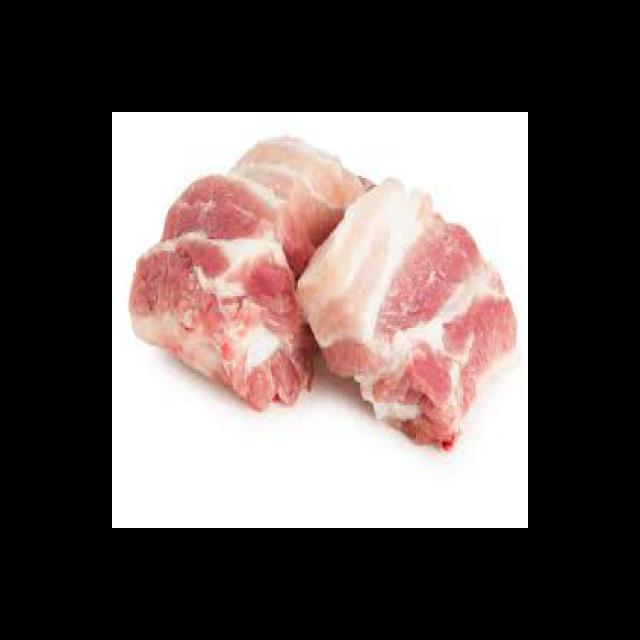pork: (314, 217, 508, 426), (148, 242, 316, 409), (182, 144, 360, 266)
